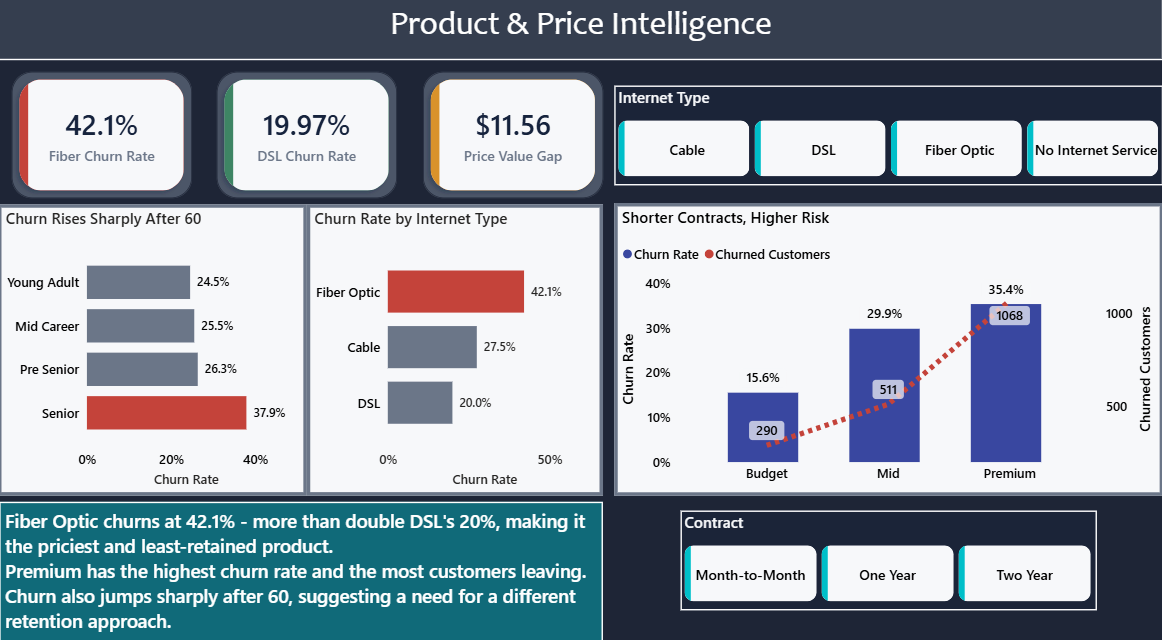

This screenshot's page, from the dashboard's own definition file:
{"tool":"powerbi","page":{"name":"Product & Price Intelligence","canvas":[1335,737],"ordinal":2},"visuals":[{"type":"textbox","box":[0,0,1335.3,71.6],"z":0},{"type":"cardVisual","fields":{"Data":["telecom_customers.Fiber Churn Rate"]},"box":[15.7,84.4,206.1,146],"z":1000},{"type":"cardVisual","fields":{"Data":["telecom_customers.DSL Churn Rate"]},"box":[251.2,84.4,206.1,146],"z":2000},{"type":"cardVisual","fields":{"Data":["telecom_customers.Price Value Gap"]},"box":[486.6,84.4,206.1,146],"z":3000},{"type":"clusteredBarChart","title":"Churn Rate by Internet Type","fields":{"Y":["telecom_customers.Churn Rate"],"Category":["telecom_customers.Internet_Type"]},"box":[353.5,236.1,339.2,333.5],"z":4000},{"type":"lineClusteredColumnComboChart","title":"Shorter Contracts, Higher Risk","fields":{"Category":["telecom_customers.Charge_Tier"],"Y":["telecom_customers.Churn Rate"],"Y2":["telecom_customers.Churned Customers"]},"box":[705.6,234.7,629.7,334.9],"z":5000},{"type":"clusteredBarChart","title":"Churn Rises Sharply After 60","fields":{"Category":["telecom_customers.Age_Bucket"],"Y":["telecom_customers.Churn Rate"]},"box":[0,236.1,353.5,333.5],"z":6000},{"type":"textbox","box":[0,576.8,692.7,160.3],"z":7000},{"type":"advancedSlicerVisual","title":"Internet Type","fields":{"Values":["telecom_customers.Internet_Type"]},"box":[705.6,100.2,629.7,114.5],"z":8000},{"type":"advancedSlicerVisual","fields":{"Values":["telecom_customers.Contract"]},"box":[781.4,586.8,476.6,114.5],"z":9000}]}

Visuals, with their boxes in screenshot pixels (x1, y1, x2, y2), scaled from the page's 1335x737 canvas onto the 1162x640 screenshot:
textbox: bbox=[0, 0, 1161, 62]
cardVisual - telecom_customers.Fiber Churn Rate: bbox=[14, 73, 193, 200]
cardVisual - telecom_customers.DSL Churn Rate: bbox=[219, 73, 398, 200]
cardVisual - telecom_customers.Price Value Gap: bbox=[424, 73, 603, 200]
"Churn Rate by Internet Type" clusteredBarChart: bbox=[308, 205, 603, 495]
"Shorter Contracts, Higher Risk" lineClusteredColumnComboChart: bbox=[614, 204, 1161, 495]
"Churn Rises Sharply After 60" clusteredBarChart: bbox=[0, 205, 308, 495]
textbox: bbox=[0, 501, 603, 639]
"Internet Type" advancedSlicerVisual: bbox=[614, 87, 1161, 186]
advancedSlicerVisual - telecom_customers.Contract: bbox=[680, 510, 1095, 609]
